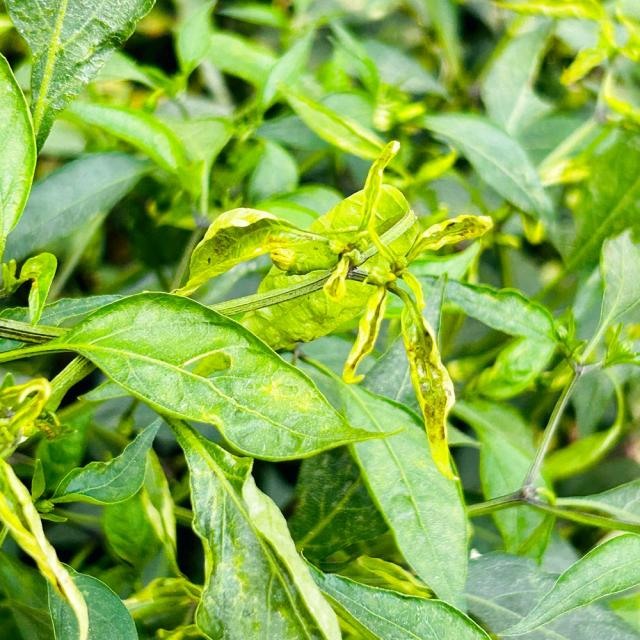Chilli_Leaf_Curl: (1, 1, 638, 638), (1, 287, 407, 638), (172, 138, 494, 480), (1, 288, 406, 462), (3, 0, 156, 156)
